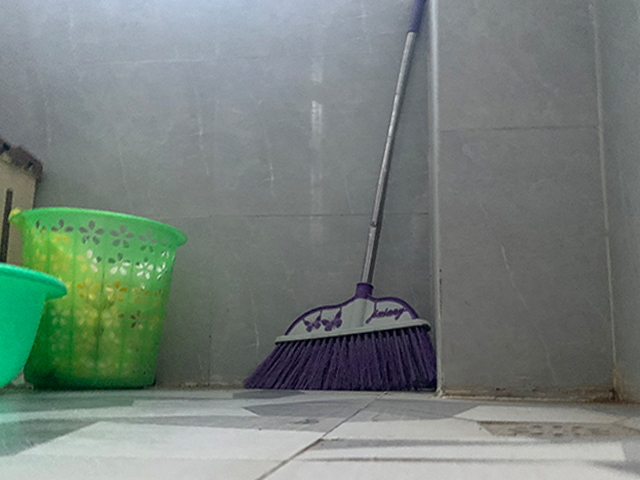trashcan: (9, 205, 186, 393)
